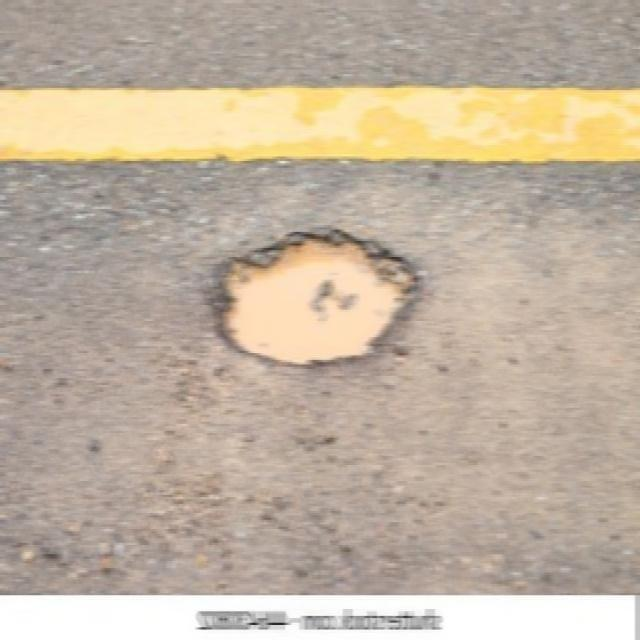Pothole: (183, 225, 436, 370)
